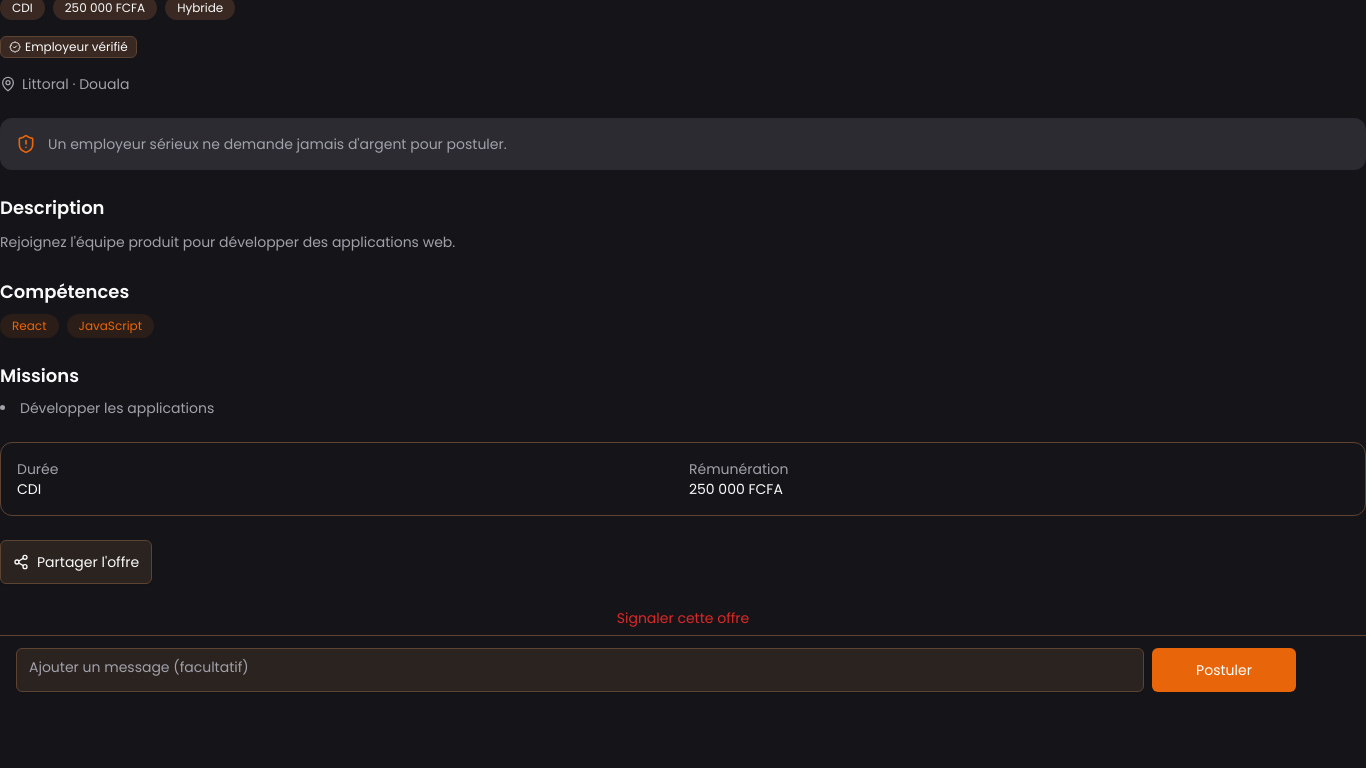
DetailOffre › enregistre un signalement avec le motif choisi
(page scrolled)
Click the button "Signaler cette offre": coordinates (683, 618) [601,596,765,640]
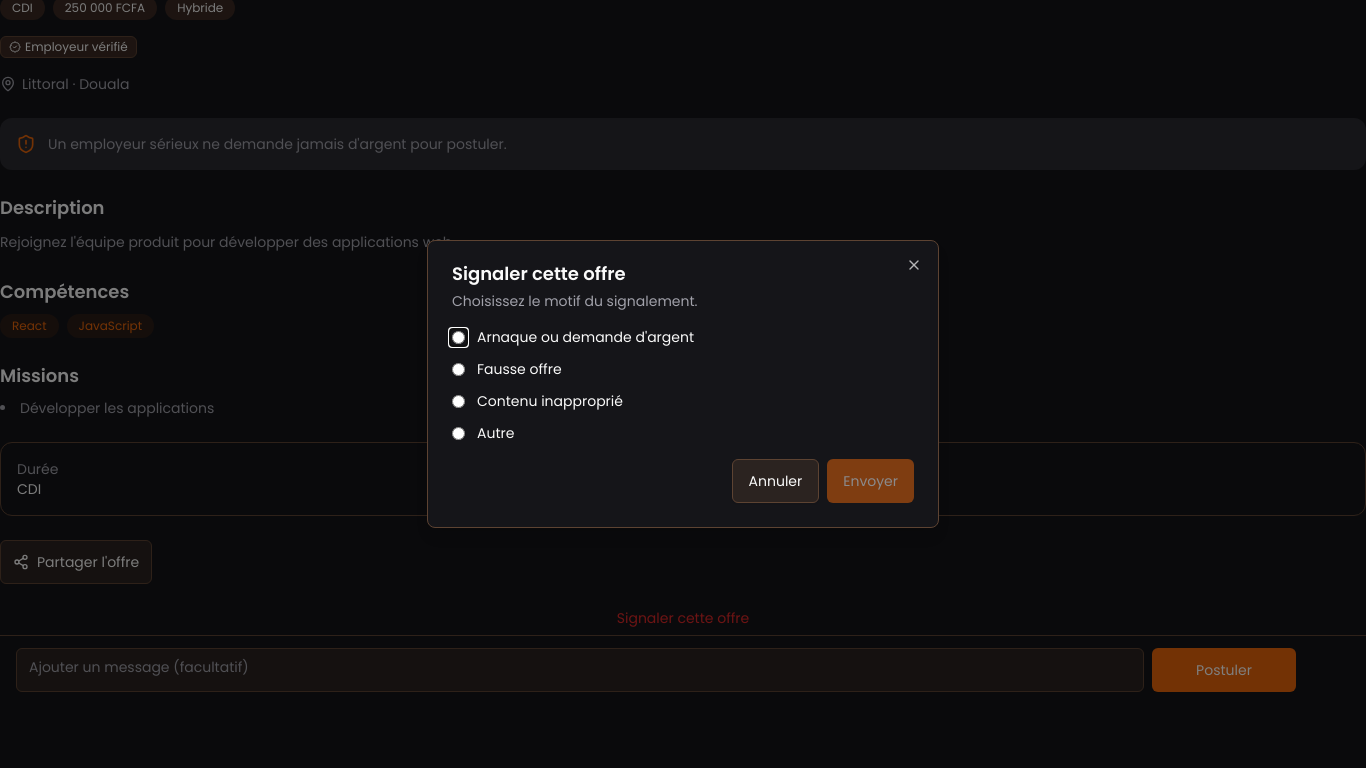
Click the radio button labelled "Fausse offre": coordinates (458, 369) [452,362,465,376]
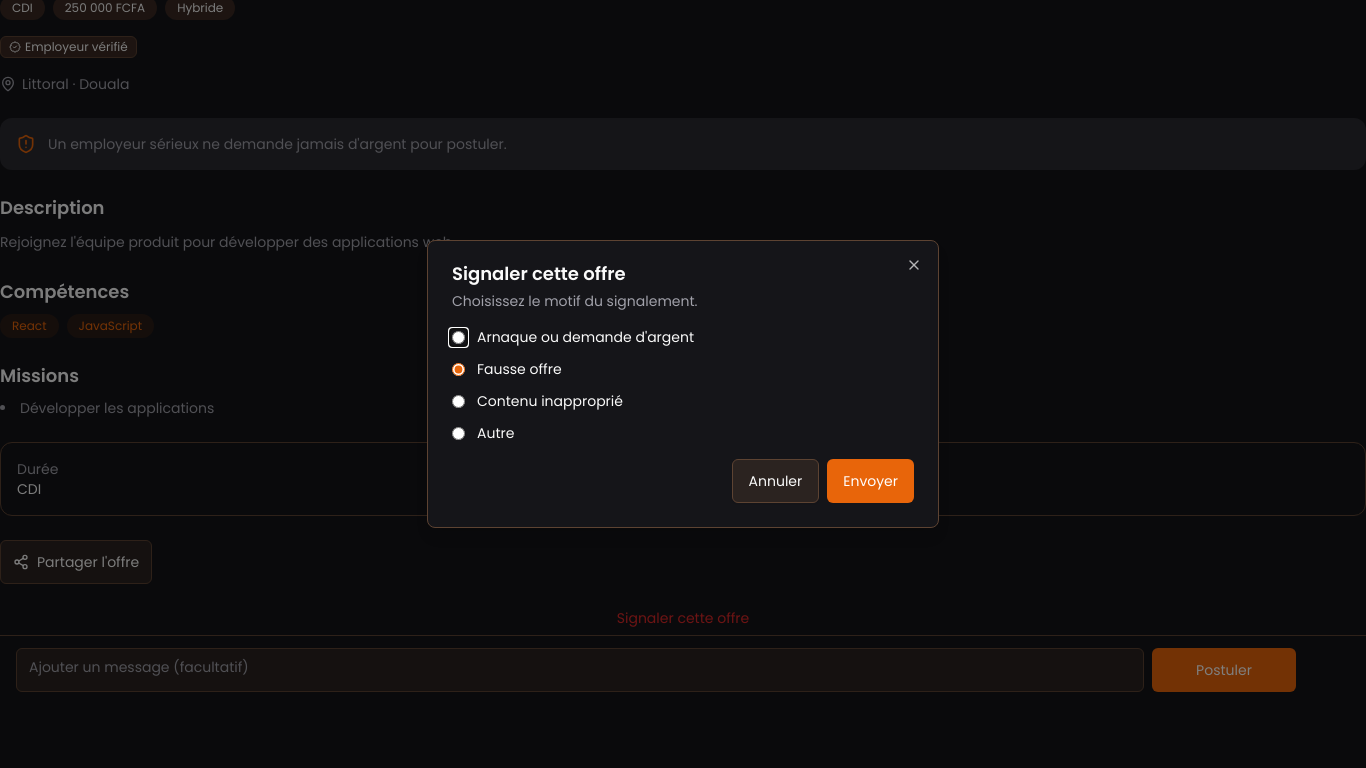
Click the button "Envoyer": coordinates (871, 481) [827,459,914,503]
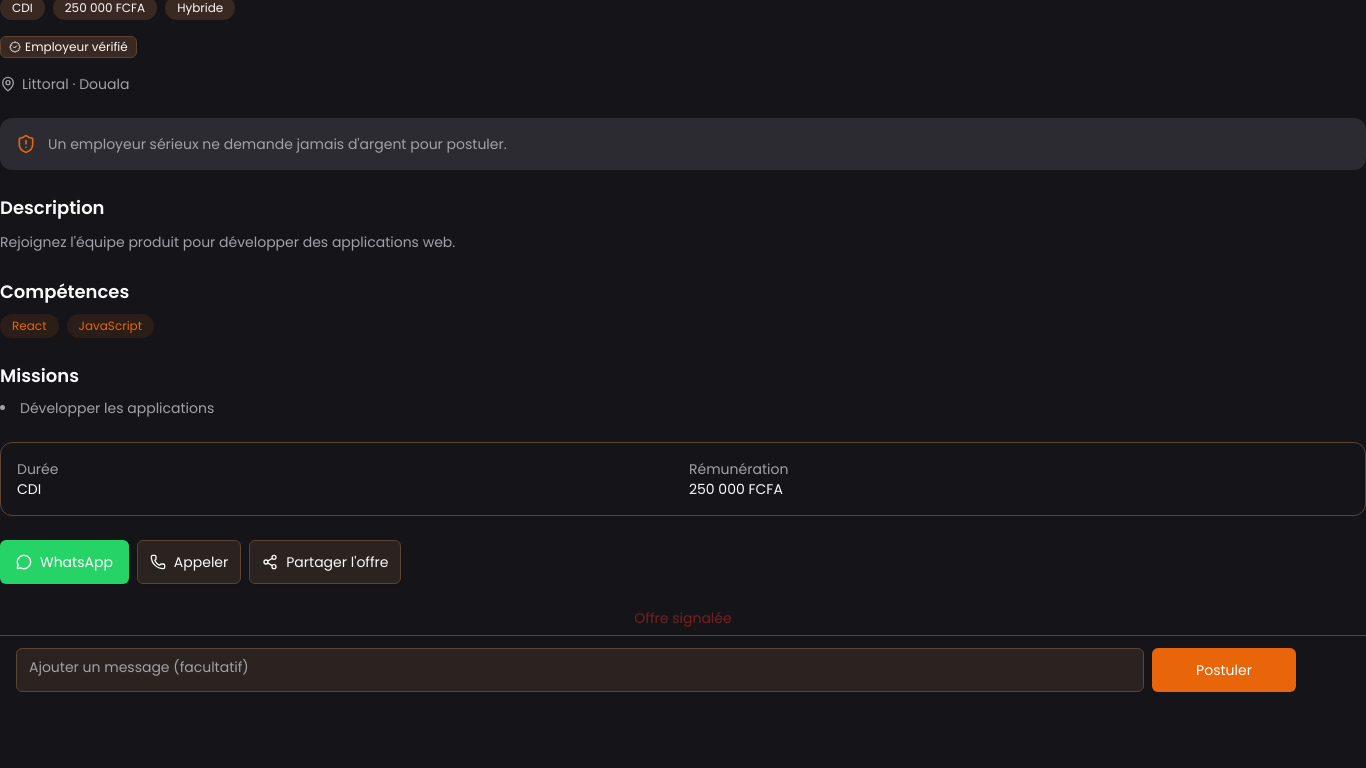
expect the button "Offre signalée" is disabled: met, box [618,596,748,640]
